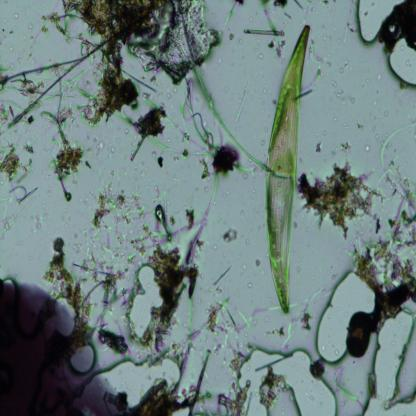Air bubble: (234, 342, 344, 416), (315, 270, 377, 366), (361, 308, 416, 416), (101, 350, 185, 403), (127, 261, 165, 349), (356, 0, 404, 46), (388, 36, 416, 88), (70, 342, 99, 376)
Background material: (60, 0, 221, 88), (350, 159, 416, 314), (0, 61, 84, 141), (298, 168, 384, 236), (73, 181, 144, 262), (80, 59, 140, 127), (146, 247, 186, 342), (44, 238, 90, 318), (67, 259, 128, 319), (148, 78, 199, 146), (126, 101, 169, 162), (115, 378, 178, 416), (130, 208, 181, 254), (180, 349, 211, 416), (377, 0, 416, 50), (183, 262, 202, 352), (47, 69, 90, 107), (47, 139, 84, 180), (0, 140, 36, 182), (99, 328, 131, 360), (220, 0, 246, 35), (332, 368, 358, 402), (206, 297, 230, 332), (38, 10, 70, 34), (208, 266, 232, 298), (232, 378, 252, 415), (6, 184, 38, 204), (262, 372, 282, 404), (254, 355, 289, 371), (60, 103, 78, 130), (268, 36, 288, 58), (262, 322, 286, 340), (229, 349, 243, 377), (308, 37, 321, 67), (308, 359, 326, 379), (236, 309, 252, 330), (366, 372, 378, 398), (282, 321, 294, 347), (236, 162, 257, 176), (60, 177, 71, 201), (302, 309, 313, 332), (263, 9, 275, 30), (226, 310, 238, 330), (186, 207, 196, 231), (213, 342, 228, 357), (310, 286, 324, 302), (31, 216, 46, 230), (244, 392, 253, 415), (224, 228, 238, 242), (306, 0, 316, 19), (0, 28, 15, 40), (153, 184, 162, 203), (95, 141, 105, 157), (107, 143, 117, 159), (298, 89, 314, 99), (273, 0, 288, 10), (289, 0, 304, 10), (256, 0, 271, 9), (339, 140, 350, 152), (167, 174, 180, 184), (22, 143, 35, 153), (181, 149, 192, 160), (225, 30, 235, 42), (223, 329, 230, 345), (354, 122, 364, 131), (330, 145, 338, 156), (157, 156, 164, 168), (348, 22, 355, 34), (316, 142, 323, 154), (90, 135, 100, 143), (84, 160, 92, 170), (400, 81, 408, 90), (254, 257, 262, 266), (171, 154, 180, 162), (282, 11, 292, 18), (27, 115, 34, 125), (28, 22, 34, 33), (86, 146, 94, 154), (316, 70, 324, 78), (324, 60, 332, 68), (343, 60, 349, 70), (109, 169, 116, 177), (334, 347, 340, 356), (239, 208, 245, 217), (264, 316, 271, 323), (140, 170, 146, 178), (242, 172, 248, 180), (292, 221, 298, 229), (364, 144, 370, 152), (27, 52, 33, 60), (2, 15, 8, 23), (243, 328, 248, 337), (16, 240, 23, 246), (336, 92, 342, 99), (13, 12, 20, 18), (252, 319, 258, 326), (46, 187, 51, 195), (332, 80, 337, 88), (323, 34, 328, 42), (259, 52, 264, 60), (321, 0, 329, 5), (391, 340, 396, 348), (13, 128, 18, 136), (42, 200, 46, 209), (350, 98, 356, 104), (330, 274, 336, 280), (245, 238, 250, 245), (125, 127, 130, 134), (245, 364, 250, 371), (372, 124, 376, 132), (214, 244, 218, 252), (377, 74, 381, 82), (310, 394, 314, 402), (344, 122, 348, 130), (339, 68, 344, 74), (242, 264, 247, 270), (374, 134, 379, 140), (319, 346, 325, 351), (323, 130, 328, 136), (247, 282, 252, 288), (373, 100, 377, 107), (252, 188, 256, 195), (86, 134, 90, 141), (385, 110, 389, 117), (402, 367, 406, 374), (338, 37, 342, 44), (254, 392, 259, 397), (332, 0, 337, 5), (305, 227, 310, 232), (198, 298, 202, 304), (152, 150, 156, 156), (306, 241, 310, 247), (366, 78, 370, 84), (344, 36, 347, 44), (10, 44, 13, 51), (378, 114, 382, 119), (297, 257, 301, 262), (398, 317, 402, 322), (378, 396, 382, 401), (333, 116, 337, 121), (0, 180, 4, 185), (29, 35, 33, 40), (132, 142, 136, 147), (302, 355, 306, 360), (226, 189, 229, 195), (376, 88, 379, 94), (134, 135, 137, 141), (321, 58, 324, 64), (328, 314, 331, 320), (200, 274, 204, 278), (315, 132, 319, 136), (134, 165, 137, 170), (340, 260, 343, 265), (65, 223, 68, 228), (300, 299, 302, 306), (311, 276, 314, 280), (64, 208, 67, 212), (340, 320, 343, 324), (314, 86, 316, 91), (132, 151, 134, 156), (294, 263, 297, 266), (56, 230, 58, 234), (145, 167, 147, 171), (345, 313, 347, 317)
Diatom: (344, 310, 374, 360), (244, 29, 285, 36), (109, 47, 121, 66), (217, 394, 233, 408), (9, 106, 15, 116)
Glass filter fibre: (194, 66, 262, 168), (191, 174, 219, 260), (380, 121, 416, 171), (0, 196, 36, 236), (39, 111, 67, 142), (146, 135, 179, 153), (236, 80, 250, 122)
Pen: (0, 283, 117, 416)
